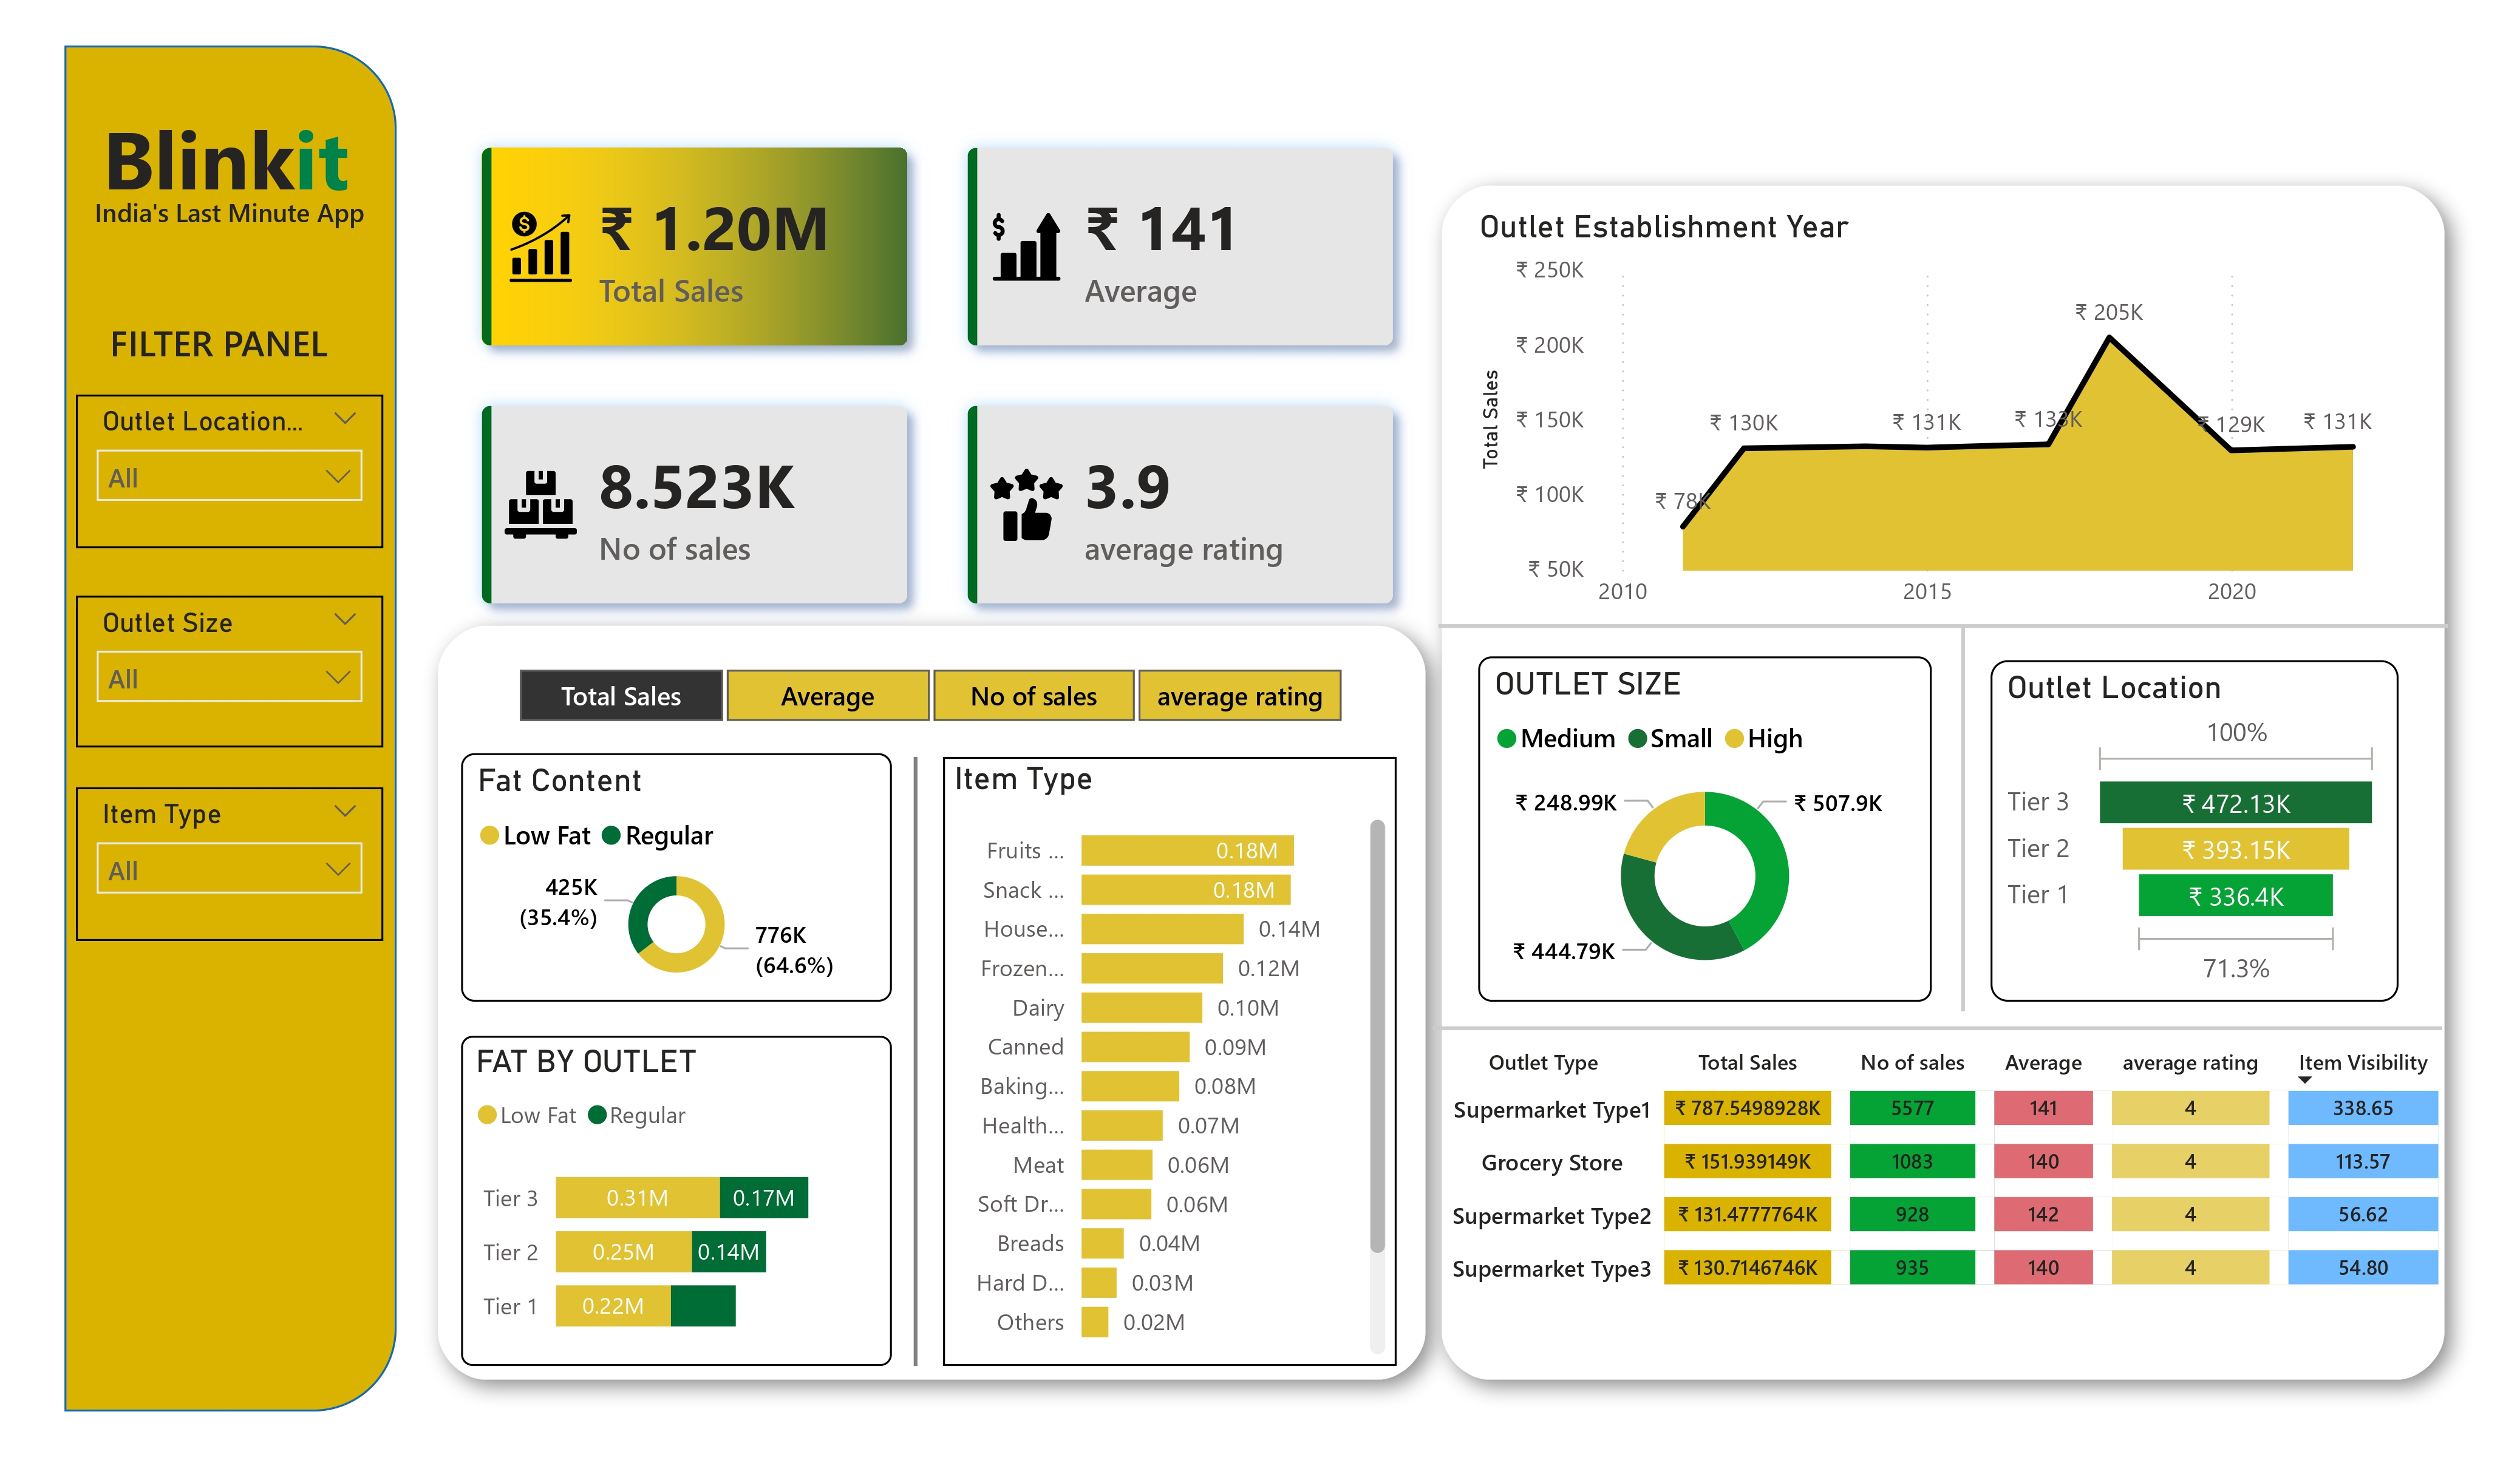

The dashboard page shown, as its layout file describes it:
{"tool":"powerbi","page":{"name":"Page 1","canvas":[1280,720],"ordinal":0},"visuals":[{"type":"shape","box":[9.6,0,175.6,720.4],"z":0},{"type":"textbox","box":[24.7,24.7,175.6,70],"z":1000},{"type":"cardVisual","fields":{"Data":["Sheet1.Total Sales","Sheet1.Average","Sheet1.No of sales","Sheet1.average rating"]},"box":[201.5,25.4,538.8,298.5],"z":2000},{"type":"shape","box":[191,289.6,552.2,429.9],"z":3000},{"type":"donutChart","title":"Fat Content","fields":{"Y":["BlinkIt Grocery Data.Total Sales"],"Category":["BlinkIt Grocery Data.Item Fat Content"]},"box":[219.4,373.1,226.9,131.3],"z":4000},{"type":"slicer","fields":{"Values":["Metrics.Metrics"]},"box":[223.9,322.4,483.6,37.3],"z":5000},{"type":"barChart","title":"FAT BY OUTLET","fields":{"Y":["BlinkIt Grocery Data.Total Sales"],"Category":["BlinkIt Grocery Data.Outlet Location Type"],"Series":["BlinkIt Grocery Data.Item Fat Content"]},"box":[219.4,522.4,226.9,173.1],"z":6000},{"type":"shape","box":[301.5,374.6,314.9,320.9],"z":7000},{"type":"barChart","box":[786,25,494,299],"z":8000},{"type":"barChart","title":"Item Type","fields":{"Y":["BlinkIt Grocery Data.Total Sales"],"Category":["BlinkIt Grocery Data.Item Type"]},"box":[473.1,374.6,238.8,320.9],"z":9000},{"type":"shape","box":[720.3,58.2,559.7,661.2],"z":10000},{"type":"lineChart","title":"Outlet Establishment Year","fields":{"Y":["BlinkIt Grocery Data.Total Sales"],"Category":["BlinkIt Grocery Data.Outlet Establishment Year"]},"box":[750.7,85.1,483.6,220.9],"z":11000},{"type":"shape","box":[734.3,144.8,531.3,322.4],"z":12000},{"type":"donutChart","title":"OUTLET SIZE","fields":{"Y":["BlinkIt Grocery Data.Total Sales"],"Category":["BlinkIt Grocery Data.Outlet Size"]},"box":[755.2,322.4,238.8,182.1],"z":13000},{"type":"shape","box":[852.2,306,316.4,203],"z":14000},{"type":"funnel","title":"Outlet Location","fields":{"Y":["Sum(BlinkIt Grocery Data.Sales)"],"Category":["BlinkIt Grocery Data.Outlet Location Type"]},"box":[1025.4,323.9,214.9,180.6],"z":15000},{"type":"pivotTable","fields":{"Rows":["BlinkIt Grocery Data.Outlet Type"],"Values":["BlinkIt Grocery Data.Total Sales","BlinkIt Grocery Data.No of sales","BlinkIt Grocery Data.Average","BlinkIt Grocery Data.average rating","Sum(BlinkIt Grocery Data.Item Visibility)"]},"box":[731.3,522.4,541.8,197],"z":16000},{"type":"shape","box":[731.3,356.7,531.3,322.4],"z":17000},{"type":"slicer","fields":{"Values":["BlinkIt Grocery Data.Outlet Location Type"]},"box":[16.5,183.9,161.9,81],"z":18000},{"type":"slicer","fields":{"Values":["BlinkIt Grocery Data.Outlet Size"]},"box":[16.5,289.5,161.9,81],"z":19000},{"type":"slicer","fields":{"Values":["BlinkIt Grocery Data.Item Type"]},"box":[16.5,391.1,161.9,81],"z":20000},{"type":"textbox","box":[28.8,138.6,149.6,45.3],"z":21000},{"type":"textbox","box":[20.6,74.1,157.8,28.8],"z":21001}]}

Visuals, with their boxes on the page's 1280x720 design canvas (x1, y1, x2, y2). These are canvas units, not pixel positions in the 2520x1457 screenshot, which may show the page scaled, cropped or inside an application window:
shape: Rect(10, 0, 185, 720)
textbox: Rect(25, 25, 200, 95)
cardVisual - Sheet1.Total Sales x Sheet1.Average: Rect(202, 25, 740, 324)
shape: Rect(191, 290, 743, 720)
"Fat Content" donutChart: Rect(219, 373, 446, 504)
slicer - Metrics.Metrics: Rect(224, 322, 708, 360)
"FAT BY OUTLET" barChart: Rect(219, 522, 446, 696)
shape: Rect(302, 375, 616, 696)
barChart: Rect(786, 25, 1280, 324)
"Item Type" barChart: Rect(473, 375, 712, 696)
shape: Rect(720, 58, 1280, 719)
"Outlet Establishment Year" lineChart: Rect(751, 85, 1234, 306)
shape: Rect(734, 145, 1266, 467)
"OUTLET SIZE" donutChart: Rect(755, 322, 994, 504)
shape: Rect(852, 306, 1169, 509)
"Outlet Location" funnel: Rect(1025, 324, 1240, 504)
pivotTable - BlinkIt Grocery Data.Outlet Type x BlinkIt Grocery Data.Total Sales: Rect(731, 522, 1273, 719)
shape: Rect(731, 357, 1263, 679)
slicer - BlinkIt Grocery Data.Outlet Location Type: Rect(16, 184, 178, 265)
slicer - BlinkIt Grocery Data.Outlet Size: Rect(16, 290, 178, 370)
slicer - BlinkIt Grocery Data.Item Type: Rect(16, 391, 178, 472)
textbox: Rect(29, 139, 178, 184)
textbox: Rect(21, 74, 178, 103)
